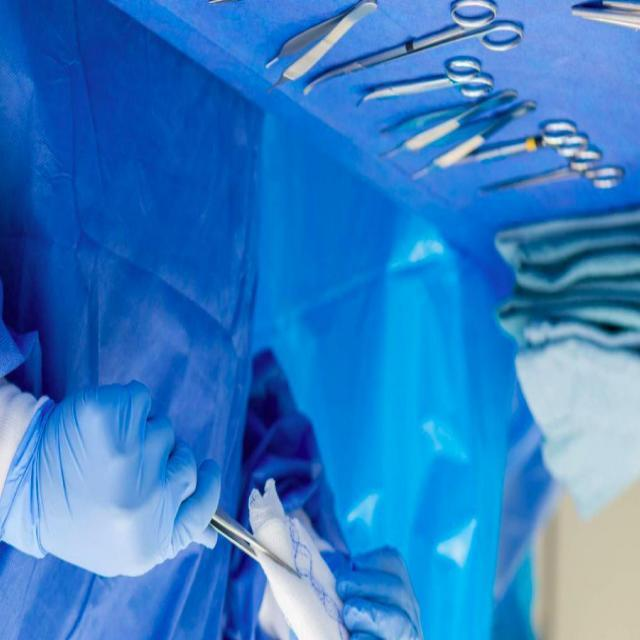Forceps: (406, 96, 540, 190), (375, 88, 520, 172), (262, 0, 378, 102), (206, 510, 304, 584)
Hemostat: (481, 139, 626, 203)
Mayo_metz: (298, 0, 526, 108), (356, 51, 494, 117), (470, 115, 591, 172)
